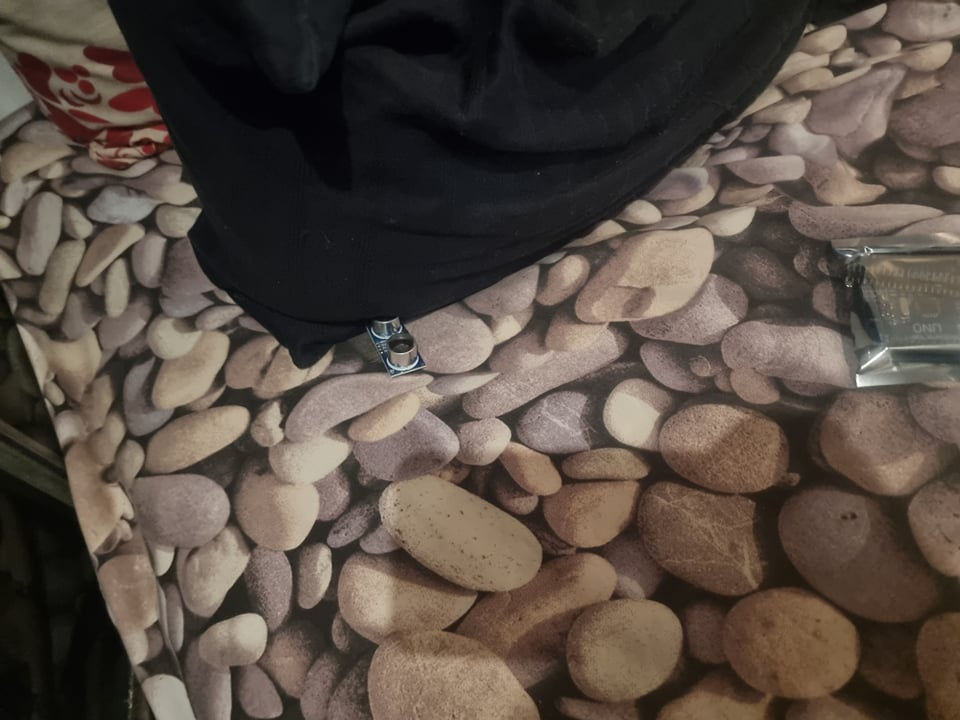SENSOR: (356, 312, 436, 377)
